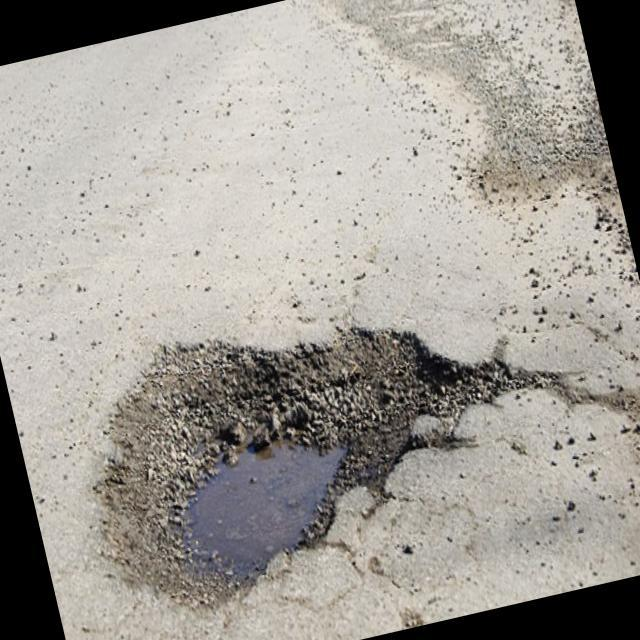Pothole: (71, 279, 502, 629)
